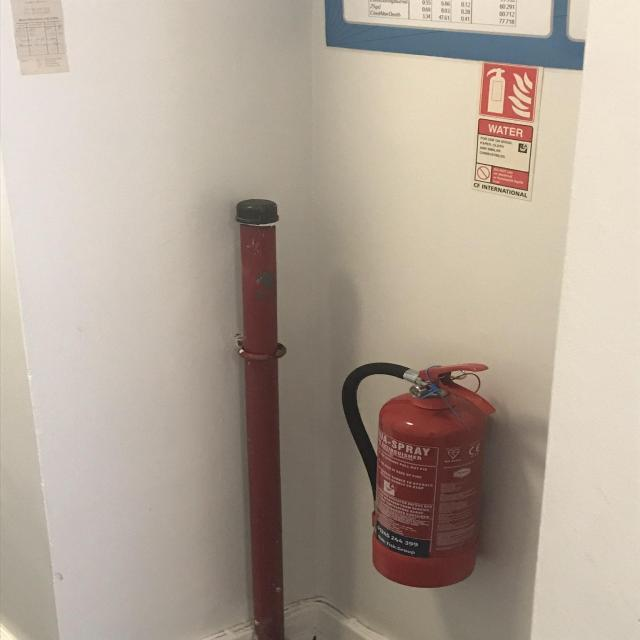fire_extinguisher: (338, 358, 497, 592)
